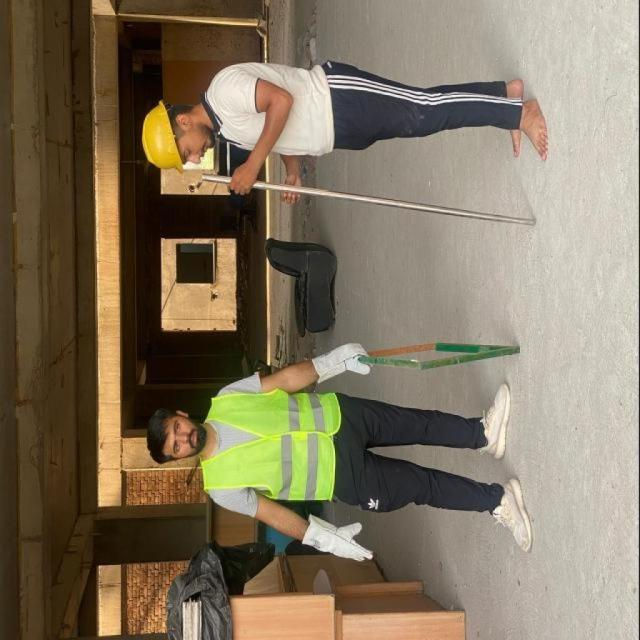Gloves-Detection: (302, 508, 380, 569), (303, 341, 366, 384)
